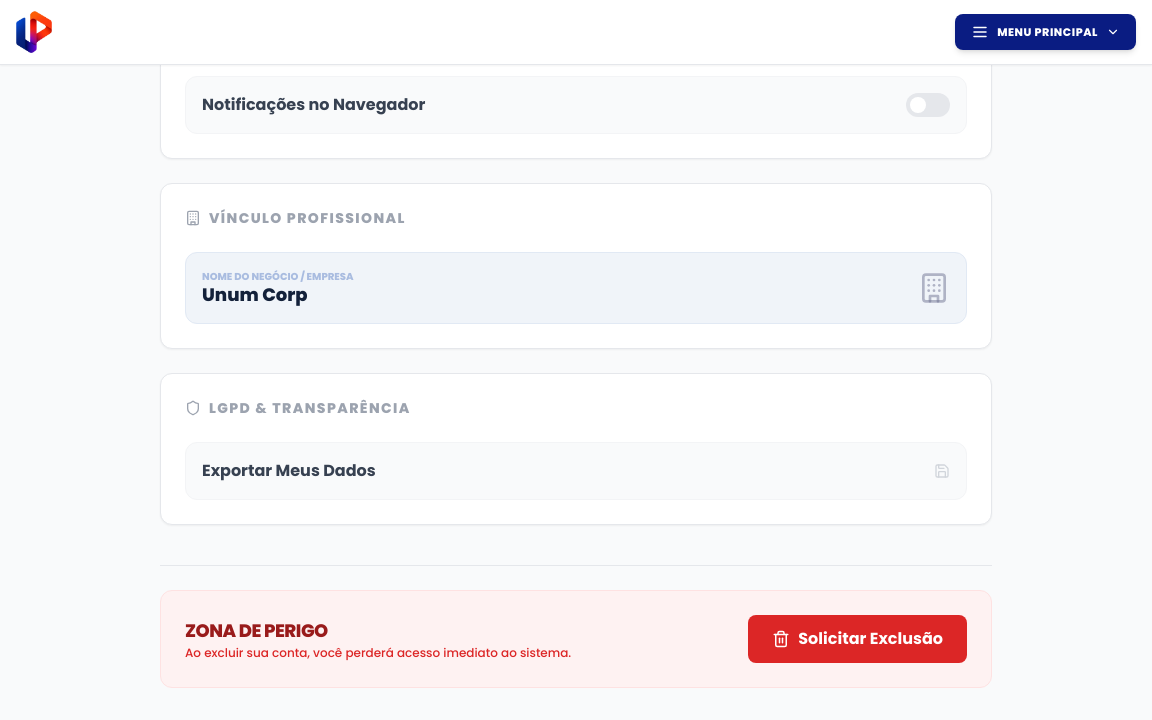
Scenario: SettingsPage › deve disparar o fluxo de exportação de dados (LGPD)
(page scrolled)
What coordinates should you click on to do the following:
click the button "Exportar Meus Dados"
I would click on:
 (289, 470)
Its box is [185,442,967,500].
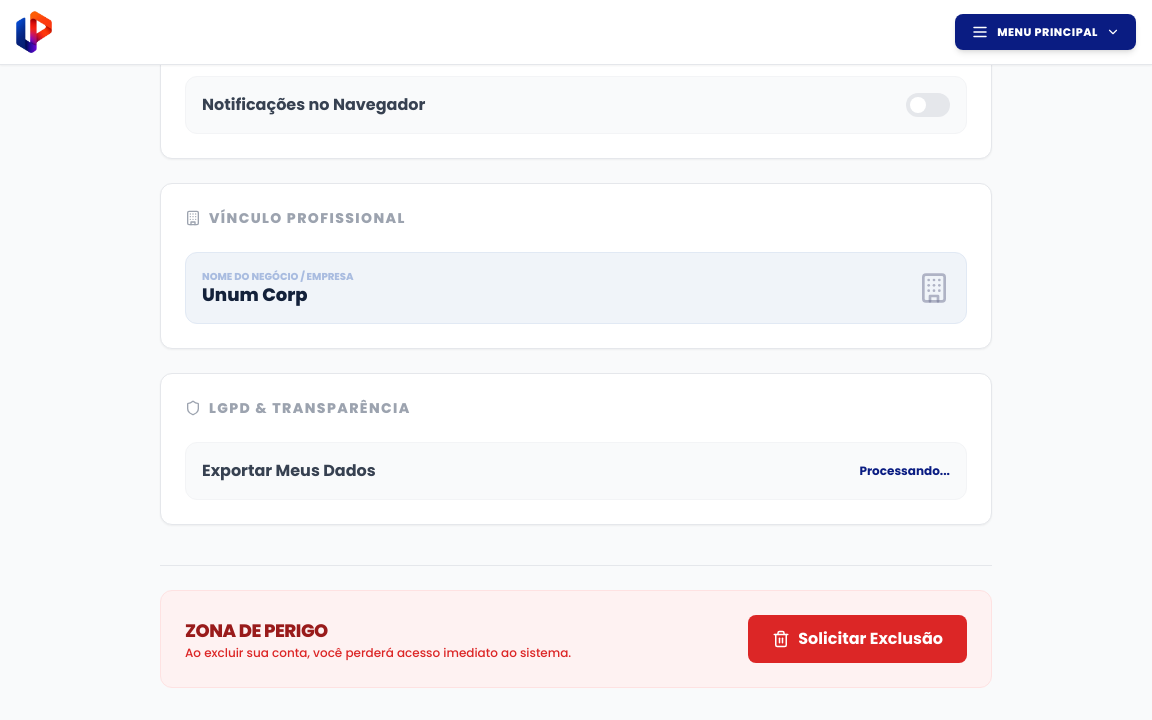
Check: the text "Processando..." is shown, box [860,462,950,478]
